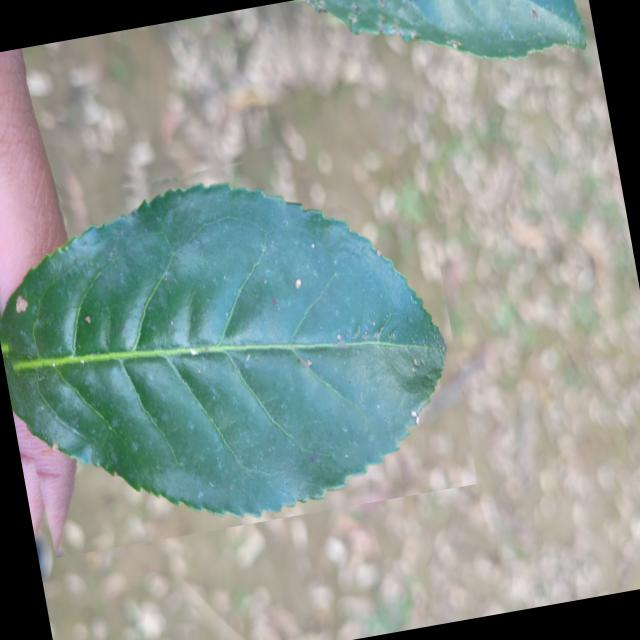Category D 7+ days, Not for Tea: (0, 123, 477, 561)
